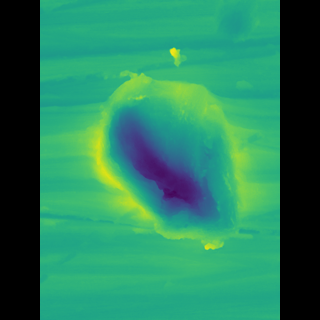Loch: (95, 64, 228, 261)
